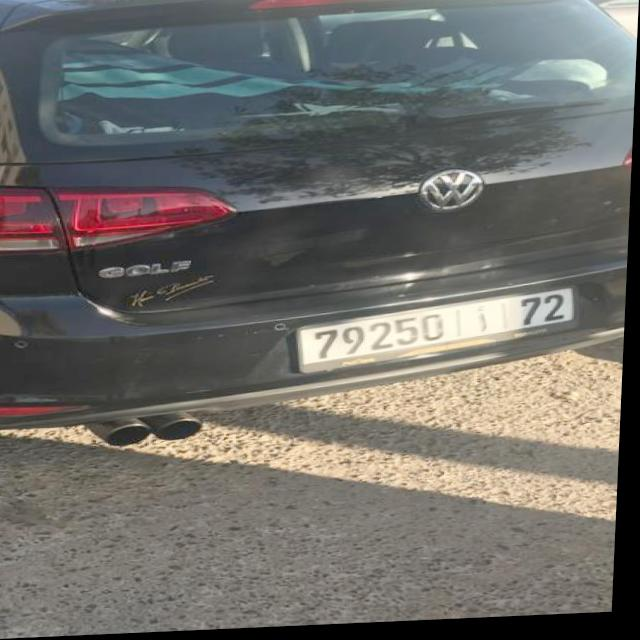License-Plate: (303, 295, 577, 375)
